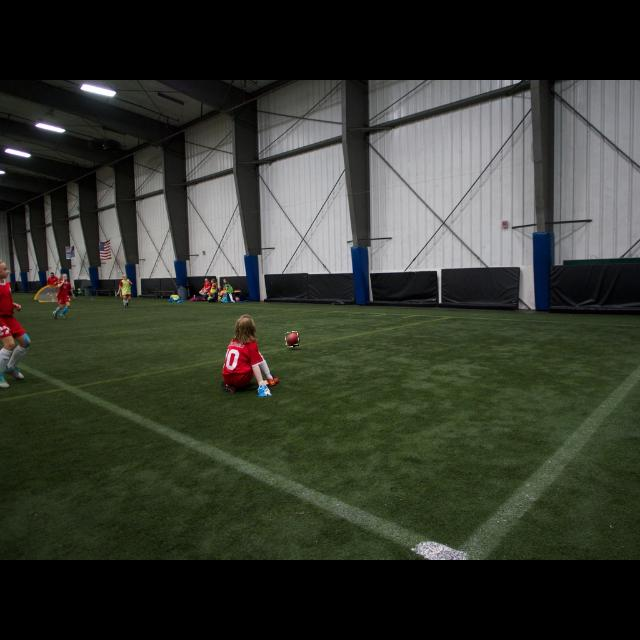Football: (285, 332, 299, 346)
